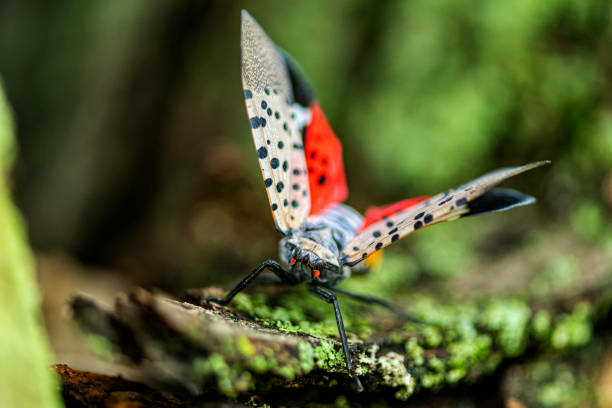adult: (201, 6, 563, 378)
